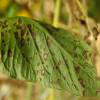Tomato Septoria leaf spot: (0, 11, 99, 97)
